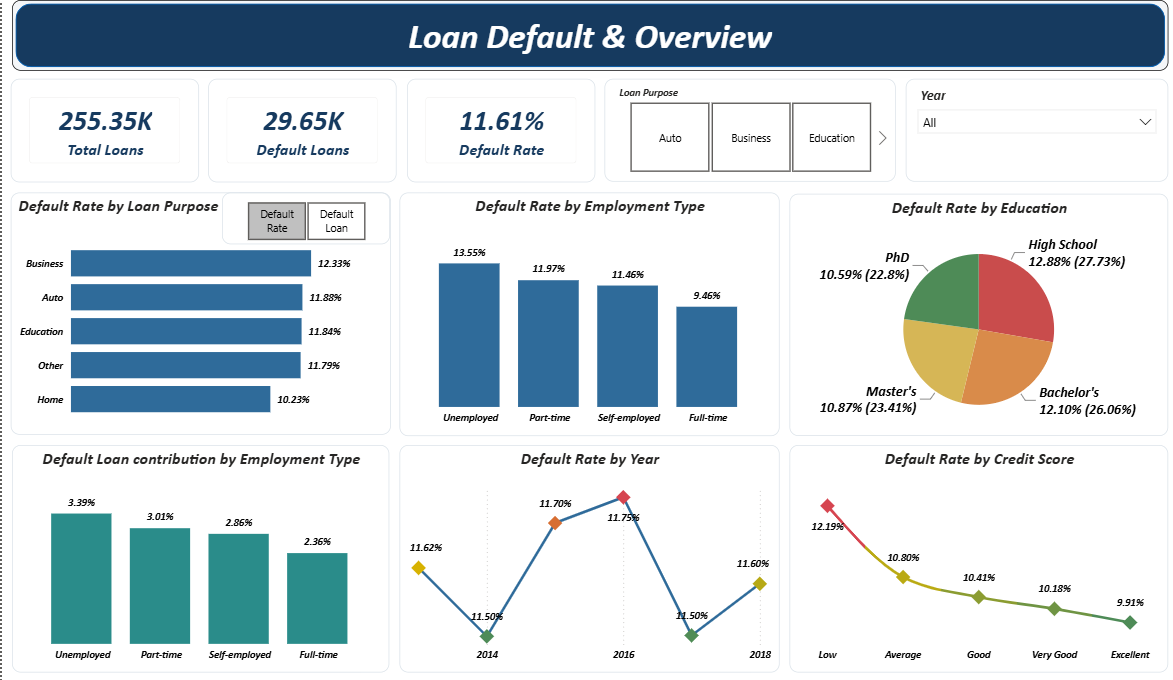

What the dashboard file says about the page in this screenshot:
{"tool":"powerbi","page":{"name":"Loan Default & Overview","canvas":[1340,780],"ordinal":0},"visuals":[{"type":"shape","box":[11,0,1321.9,80.8],"z":0},{"type":"clusteredBarChart","fields":{"Category":["Loan_default.LoanPurpose"],"Y":["Measure Table 1.Default Rate"]},"box":[9.6,220.5,434.2,276.7],"z":1000},{"type":"columnChart","title":"Default Loan contribution by Employment Type","fields":{"Category":["Loan_default.EmploymentType"],"Y":["Measure Table 1.Default_loan contri"]},"box":[11,508.2,431.5,260.3],"z":2000},{"type":"cardVisual","fields":{"Data":["Measure Table 1.Default loan"]},"box":[236,90.5,215.5,118.3],"z":3000},{"type":"cardVisual","fields":{"Data":["Measure Table 1.Default rate"]},"box":[462.5,90.5,215.5,118.3],"z":4000},{"type":"cardVisual","fields":{"Data":["Measure Table 1.Total Loans"]},"box":[9.5,90.5,215.5,118.3],"z":5000},{"type":"pieChart","title":"Default Rate by Education","fields":{"Category":["Loan_default.Education"],"Y":["Measure Table 1.Default rate"]},"box":[900,221.9,432.9,276.7],"z":6000},{"type":"lineChart","title":"Default Rate by Credit Score","fields":{"Category":["Loan_default.Credit Score Grps"],"Y":["Measure Table 1.Default rate"]},"box":[900,508.2,433,260],"z":7000},{"type":"slicer","title":"Years","fields":{"Values":["Loan_default.Year"]},"box":[1032.9,90.4,300,117.8],"z":8000},{"type":"slicer","fields":{"Values":["Purpose.Purpose"]},"box":[252.1,220.5,191.8,58.9],"z":9000},{"type":"slicer","fields":{"Values":["Loan_default.LoanPurpose"]},"box":[689,90.4,332.9,117.8],"z":10000},{"type":"lineChart","fields":{"Category":["Loan_default.Year"],"Y":["Measure Table 1.Default rate"]},"box":[454.2,508,434,260],"z":11000},{"type":"columnChart","fields":{"Category":["Loan_default.EmploymentType"],"Y":["Measure Table 1.Default Rate"]},"box":[454.8,220.5,434.2,278.1],"z":12000}]}

Visuals, with their boxes in screenshot pixels (x1, y1, x2, y2), scaled from the page's 1340x780 canvas onto the 1173x680 screenshot:
shape: locate(10, 0, 1167, 70)
clusteredBarChart - Loan_default.LoanPurpose x Measure Table 1.Default Rate: locate(8, 192, 388, 433)
"Default Loan contribution by Employment Type" columnChart: locate(10, 443, 387, 670)
cardVisual - Measure Table 1.Default loan: locate(207, 79, 395, 182)
cardVisual - Measure Table 1.Default rate: locate(405, 79, 594, 182)
cardVisual - Measure Table 1.Total Loans: locate(8, 79, 197, 182)
"Default Rate by Education" pieChart: locate(788, 193, 1167, 435)
"Default Rate by Credit Score" lineChart: locate(788, 443, 1167, 670)
"Years" slicer: locate(904, 79, 1167, 182)
slicer - Purpose.Purpose: locate(221, 192, 389, 244)
slicer - Loan_default.LoanPurpose: locate(603, 79, 895, 182)
lineChart - Loan_default.Year x Measure Table 1.Default rate: locate(398, 443, 778, 670)
columnChart - Loan_default.EmploymentType x Measure Table 1.Default Rate: locate(398, 192, 778, 435)
